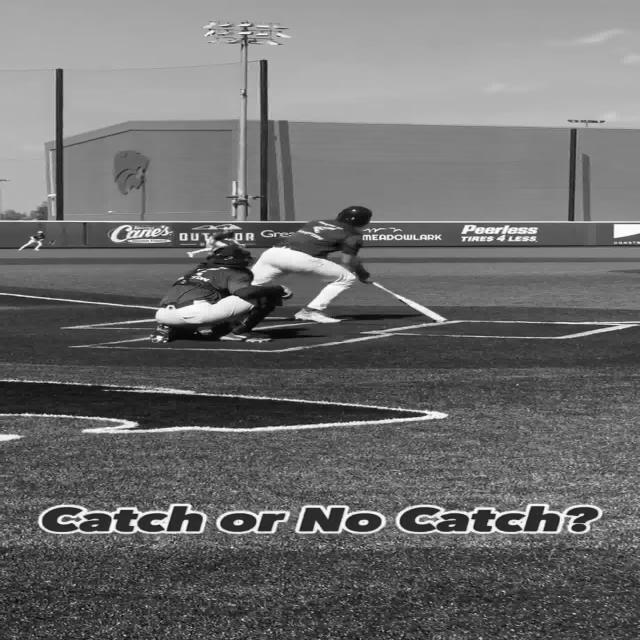bat: (362, 278, 448, 322)
shoe: (293, 308, 342, 324), (218, 330, 272, 342), (149, 324, 173, 344)
